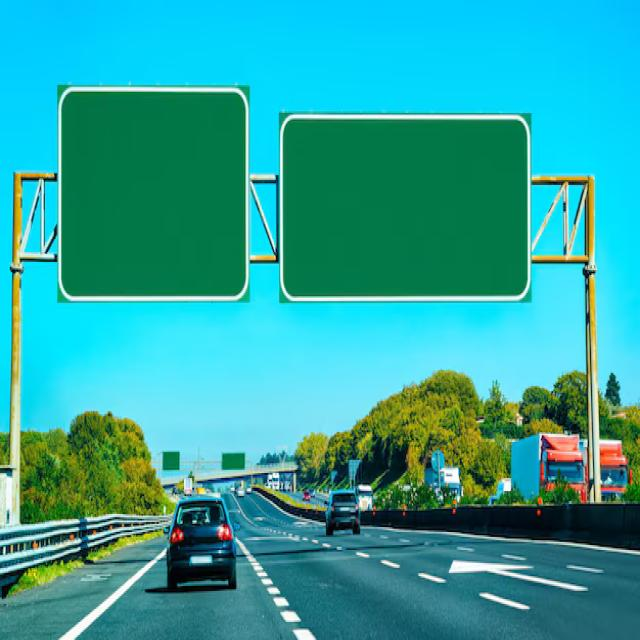Billboard_overhead: (279, 92, 540, 319), (45, 77, 265, 321)
Billboard_overhead_small: (216, 440, 252, 478), (161, 432, 186, 476)
Roadcorner: (49, 535, 164, 638), (528, 526, 638, 562)
Roadlane: (304, 532, 552, 632), (443, 534, 618, 597), (243, 540, 325, 638)
